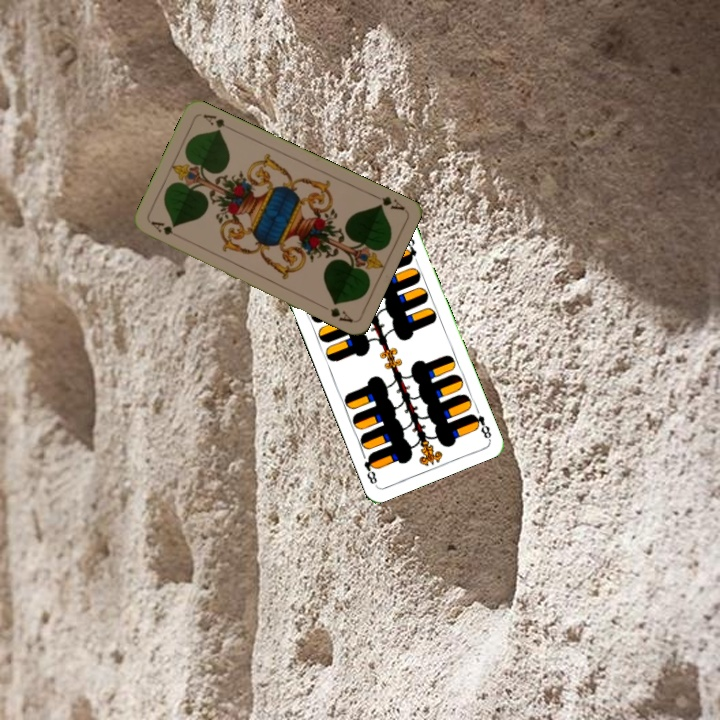E8: (467, 410, 494, 442)
GA: (147, 217, 185, 242), (368, 190, 407, 213)
